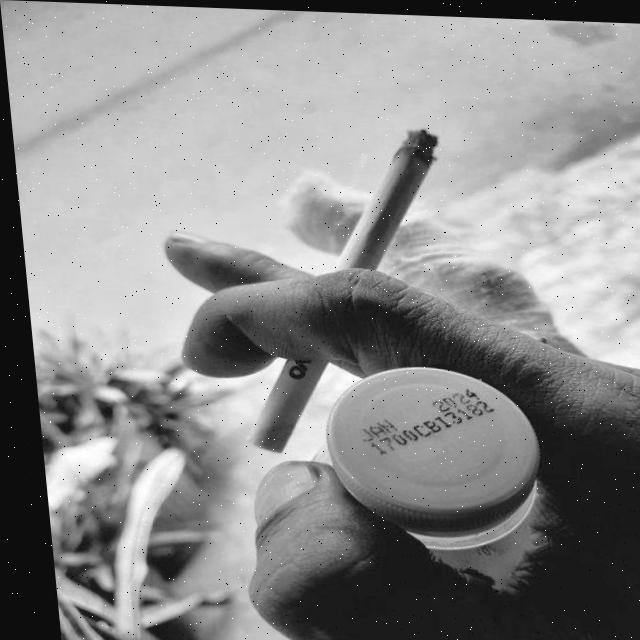cigarette: (218, 120, 460, 454)
